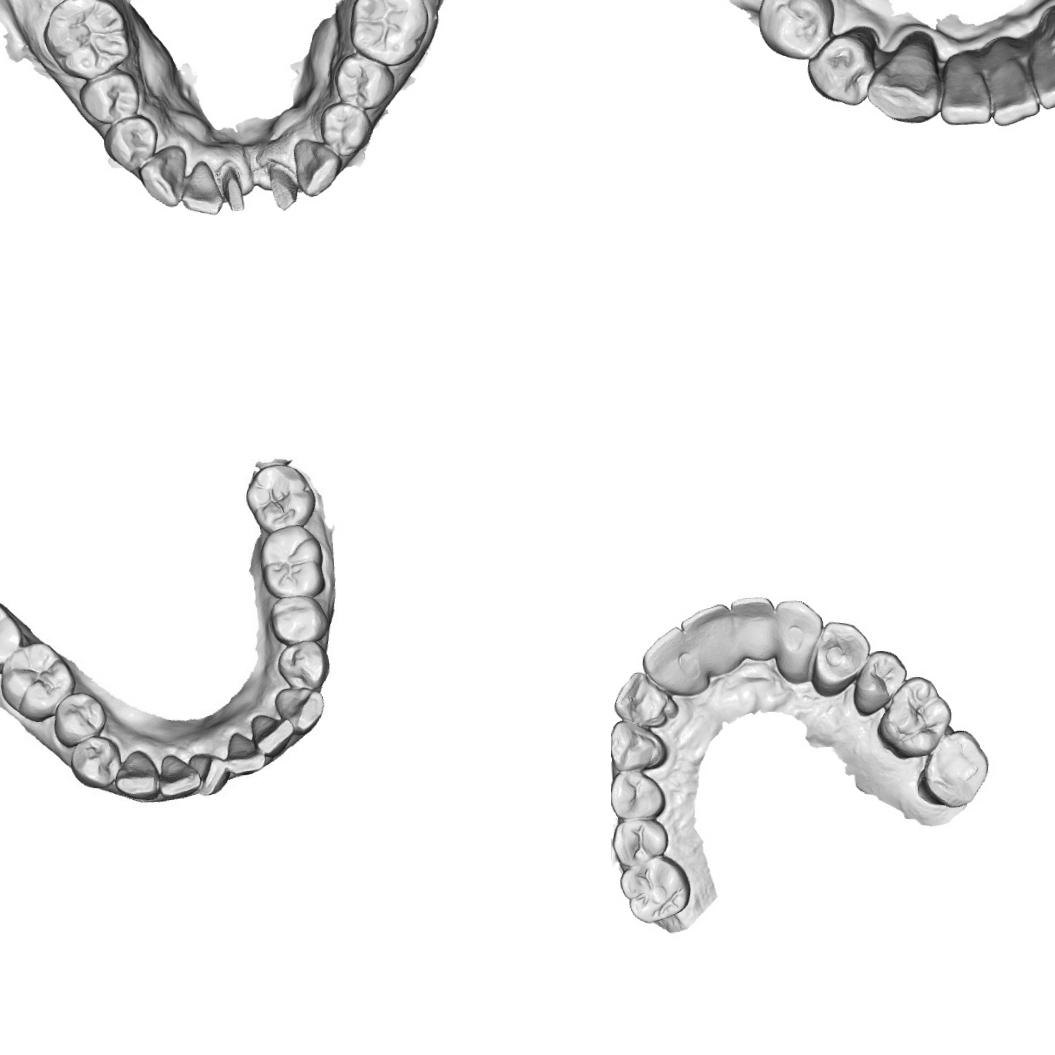abutment: (262, 162, 300, 212), (218, 164, 249, 212)
canine: (863, 32, 948, 128), (771, 597, 826, 684), (136, 142, 190, 210), (291, 135, 343, 198), (611, 717, 668, 772), (272, 681, 328, 736), (112, 746, 159, 799)
incisor: (639, 624, 710, 700), (677, 602, 734, 675), (612, 669, 680, 730), (936, 58, 996, 127), (985, 55, 1041, 128), (730, 594, 776, 662), (178, 158, 222, 217), (219, 728, 266, 777), (249, 710, 294, 761), (157, 750, 200, 798), (190, 752, 227, 797), (1031, 41, 1055, 110)
molar: (39, 0, 129, 82), (874, 674, 954, 760), (914, 728, 990, 810), (0, 640, 74, 724), (345, 0, 431, 68), (256, 522, 330, 600), (243, 461, 316, 538), (617, 852, 692, 925), (0, 596, 22, 678)
premolar: (803, 31, 880, 111), (752, 0, 838, 62), (808, 618, 872, 698), (850, 648, 909, 716), (332, 52, 397, 112), (101, 112, 162, 175), (76, 68, 142, 126), (49, 688, 107, 750), (318, 98, 374, 158), (68, 730, 122, 790), (268, 592, 330, 644), (274, 640, 333, 692), (611, 816, 669, 867), (611, 768, 666, 820)
